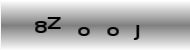8: (34, 20, 47, 33)
J: (132, 24, 140, 41)
Z: (46, 16, 62, 30)
o: (106, 26, 120, 37), (77, 27, 89, 36)
